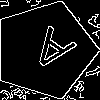A: (20, 25, 78, 82)
